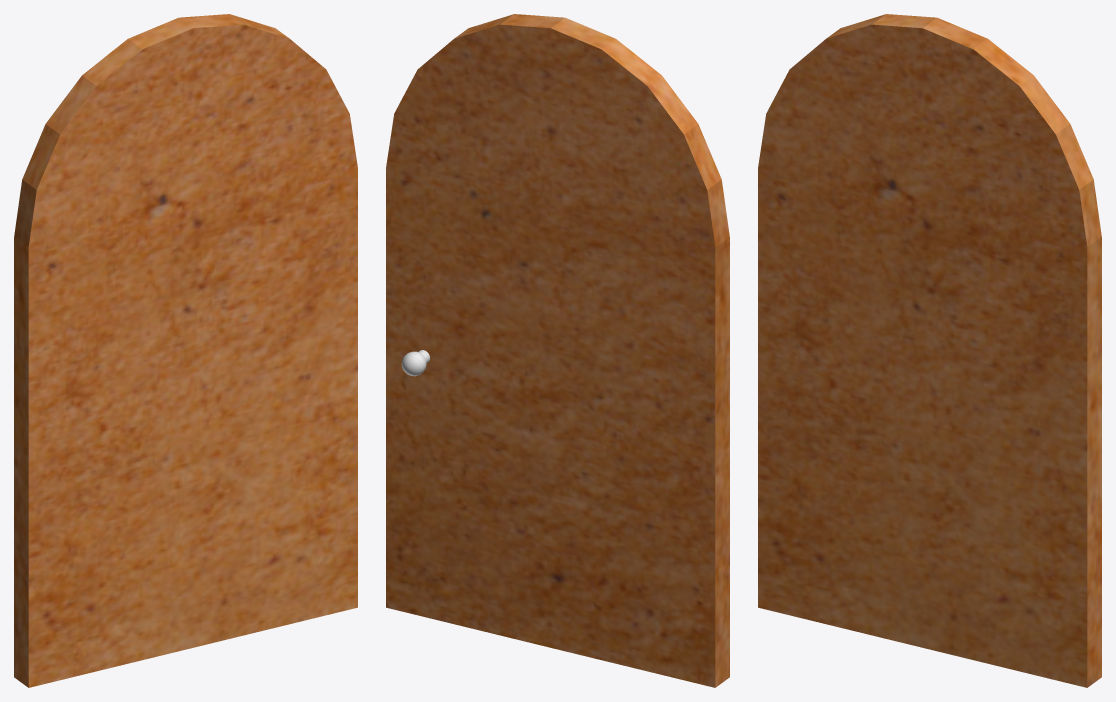
File: door1.fbx
3 renders of one model, left to right at view 1: azimuth 30°, elevation 25°; view 2: azimuth 150°, elevation 25°; view 3: azimuth 330°, elevation 25°, orthographic.
Visible parts, largest first — view 1: pCylinder11; view 2: pCylinder11, pSphere5; view 3: pCylinder11.
Boxes of the visible parts, x1,y1,x2,y2 form: pCylinder11: (14, 14, 357, 687); pCylinder11: (386, 14, 729, 687); pSphere5: (401, 350, 429, 376); pCylinder11: (758, 14, 1101, 687).
Size of the model in its own units: 1.93 by 3.46 by 0.3106.
Materials: 1 (1 with a texture image).
